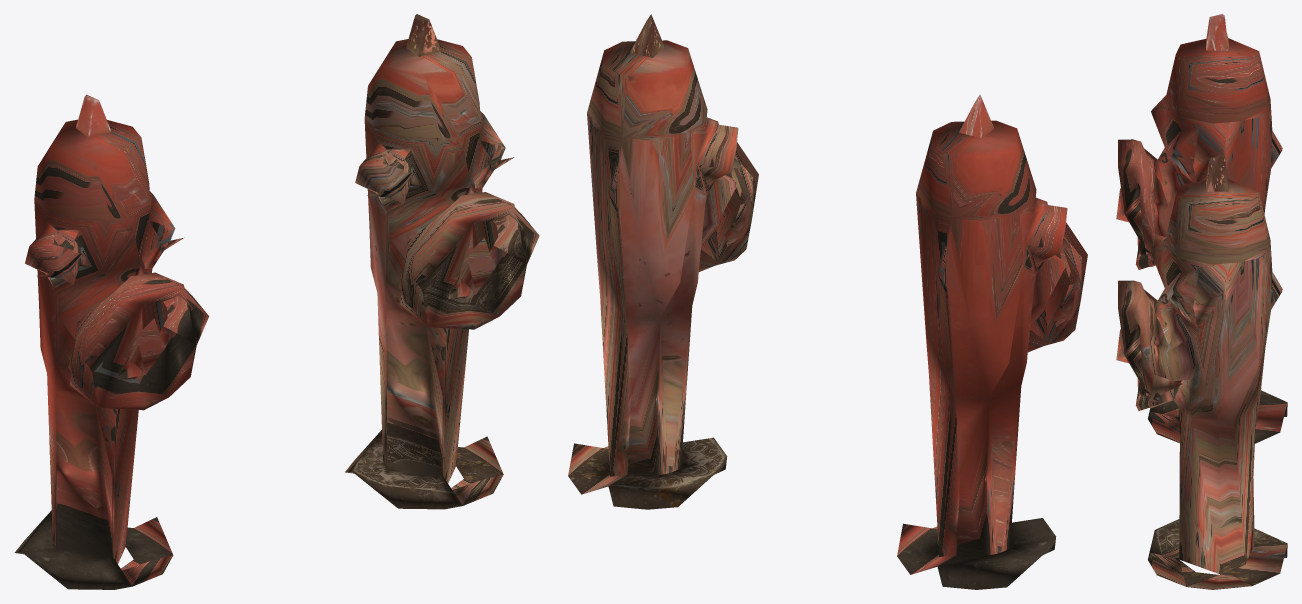
Rendered from Hydrant.glb.
3 views of the same model, side by side, from view 1: azimuth 30°, elevation 25°; view 2: azimuth 150°, elevation 25°; view 3: azimuth 270°, elevation 25° (orthographic). The views are drawn at different scales.
Parts seen in each view (by area): view 1: fire_hydrant, fire_hydrant_aged; view 2: fire_hydrant_aged, fire_hydrant; view 3: fire_hydrant_aged, fire_hydrant.
Boxes of the visible parts, left/top/right/bottom form: fire_hydrant: left=14, top=94, right=208, bottom=589; fire_hydrant_aged: left=345, top=14, right=539, bottom=509; fire_hydrant_aged: left=568, top=14, right=758, bottom=509; fire_hydrant: left=897, top=94, right=1087, bottom=589; fire_hydrant_aged: left=1116, top=155, right=1287, bottom=589; fire_hydrant: left=1116, top=14, right=1287, bottom=443.
Bounding box in the file's own units: 0.8726 × 0.7992 × 0.3081.
2 materials, 2 textured.
